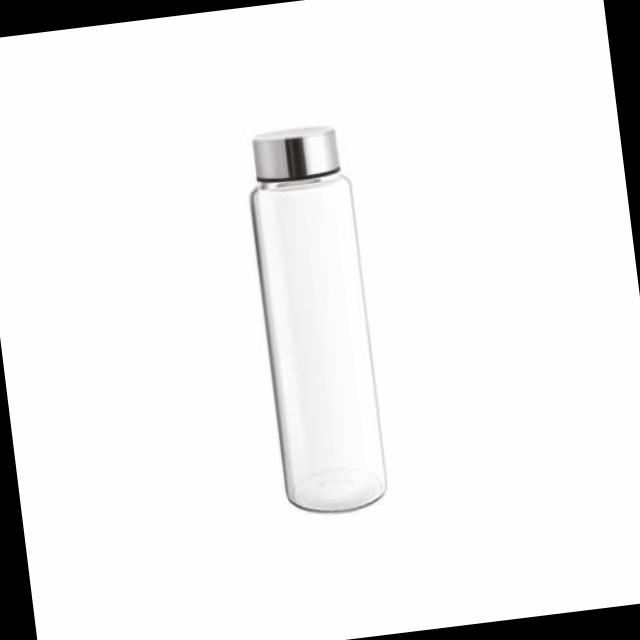glass: (226, 86, 408, 546)
